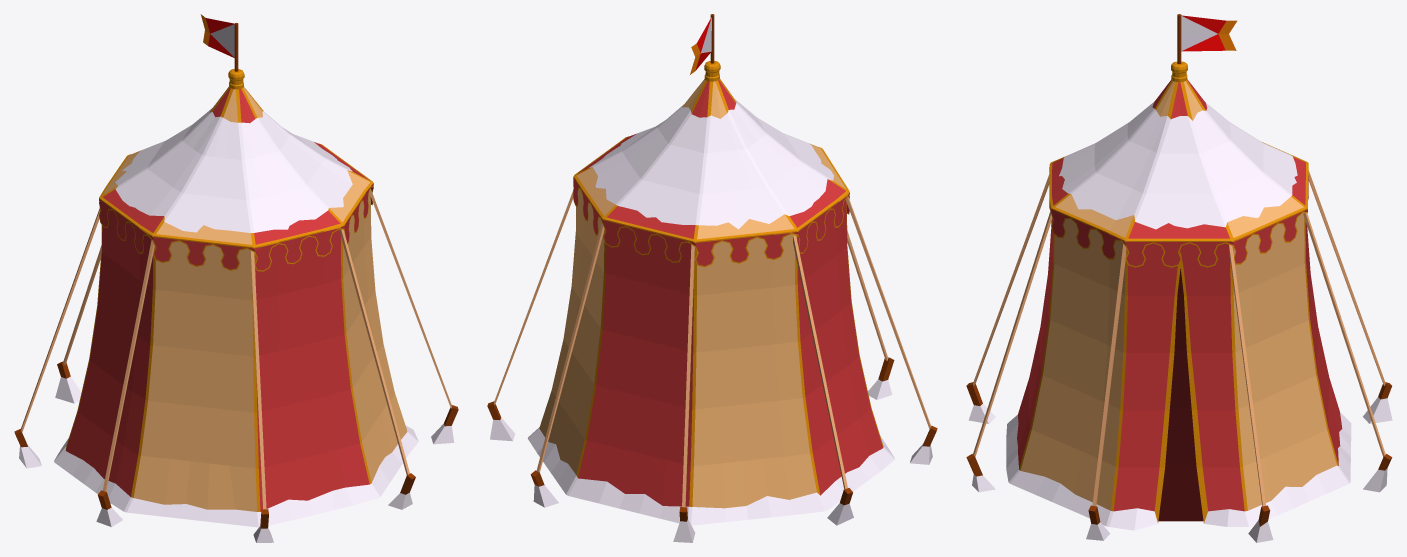
The model's file is low_poly_camping_tent_5.glb.
3 views of the same model, side by side, from view 1: azimuth 30°, elevation 25°; view 2: azimuth 150°, elevation 25°; view 3: azimuth 270°, elevation 25° (orthographic). The views are drawn at different scales.
Parts seen in each view (by area): view 1: Tent5; view 2: Tent5; view 3: Tent5.
Part boxes in pixels (bbox=[...]): Tent5: bbox=[14, 14, 458, 542]; Tent5: bbox=[487, 14, 937, 542]; Tent5: bbox=[966, 14, 1392, 542].
Size of what is drawn, in the model's own units: 3.3 by 3.75 by 3.3.
Materials: 1 (1 with a texture image).
